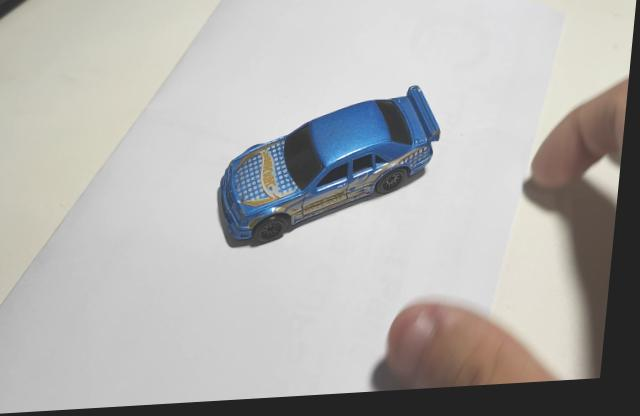04_MERZEDES: (220, 92, 444, 253)
